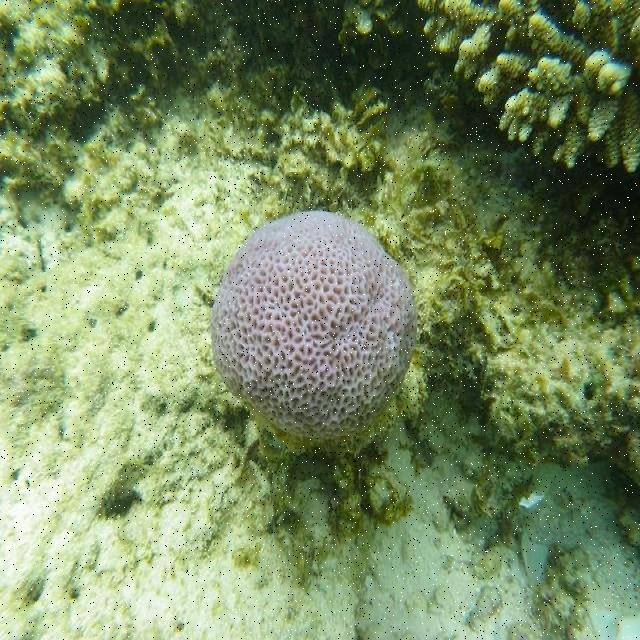reefs: (211, 210, 420, 442)
